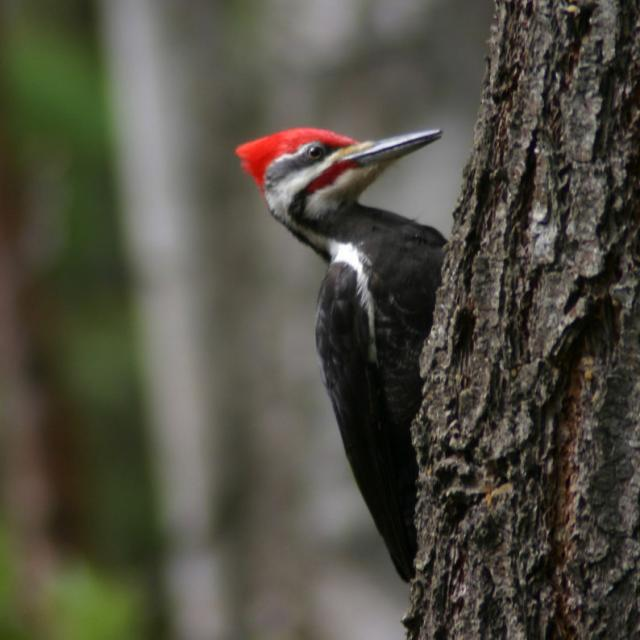Woodpecker: (238, 110, 450, 580)
